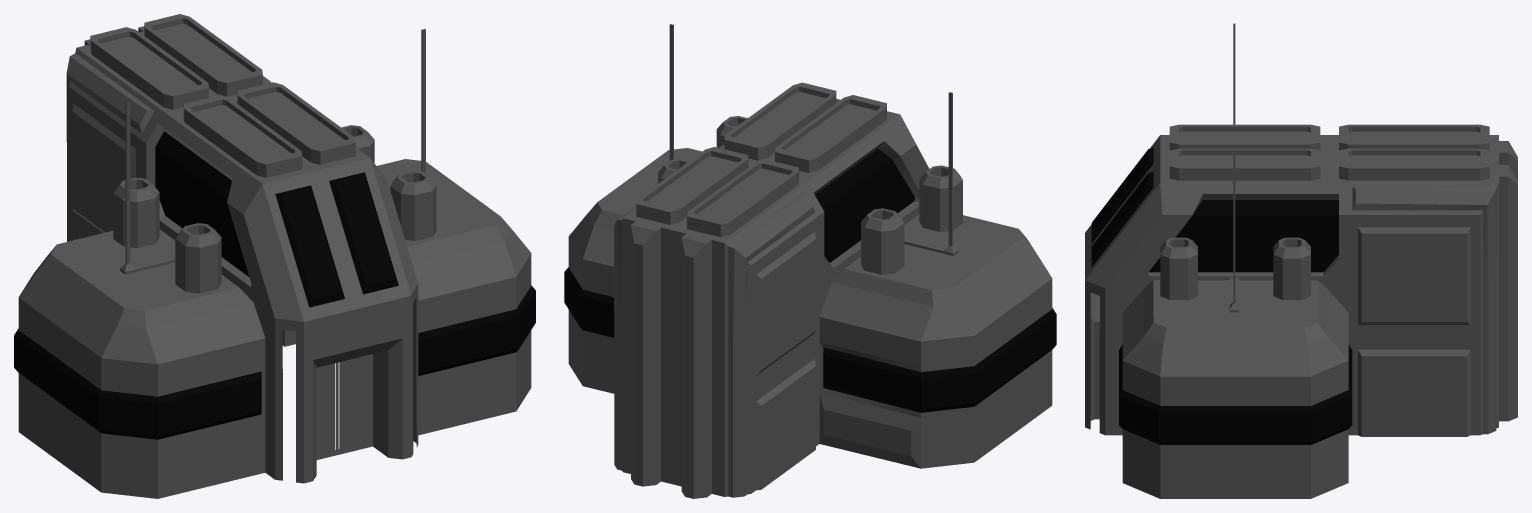
The model's file is Apartment_lvl1_3.dae.
3 views of the same model, side by side, from view 1: azimuth 30°, elevation 25°; view 2: azimuth 150°, elevation 25°; view 3: azimuth 270°, elevation 25° (orthographic). The views are drawn at different scales.
Parts seen in each view (by area): view 1: Apartment_lvl1_3; view 2: Apartment_lvl1_3; view 3: Apartment_lvl1_3.
Boxes of the visible parts, left/top/right/bottom form: Apartment_lvl1_3: left=14, top=14, right=535, bottom=498; Apartment_lvl1_3: left=564, top=24, right=1056, bottom=498; Apartment_lvl1_3: left=1085, top=23, right=1517, bottom=498.
Size of the model in its own units: 21.5 by 20.27 by 16.69.
